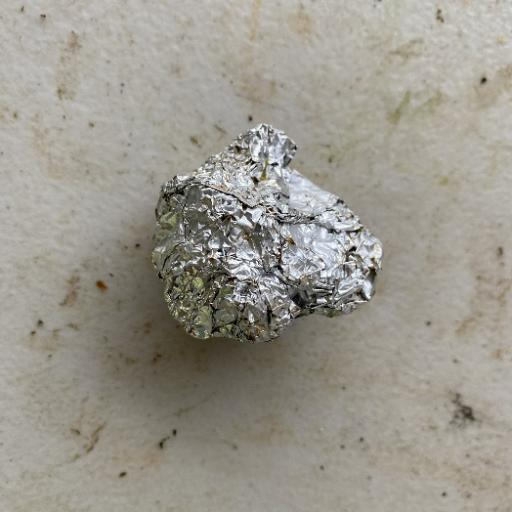Metal: (149, 121, 384, 345)
